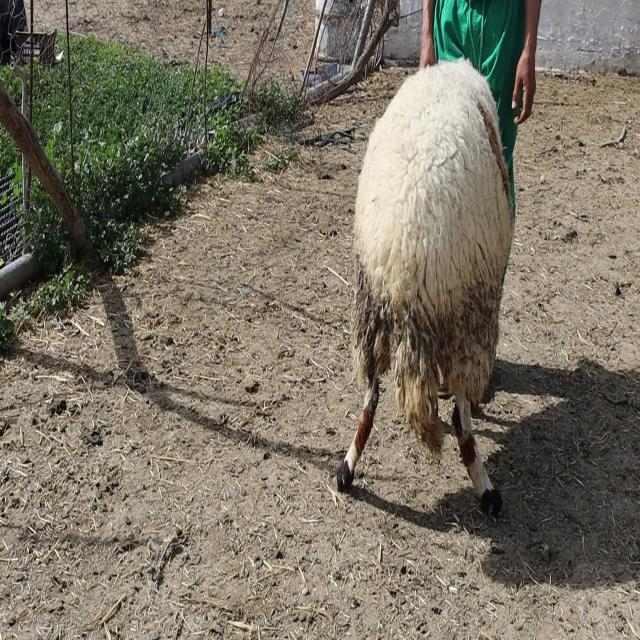Score_5: (335, 60, 514, 517)
